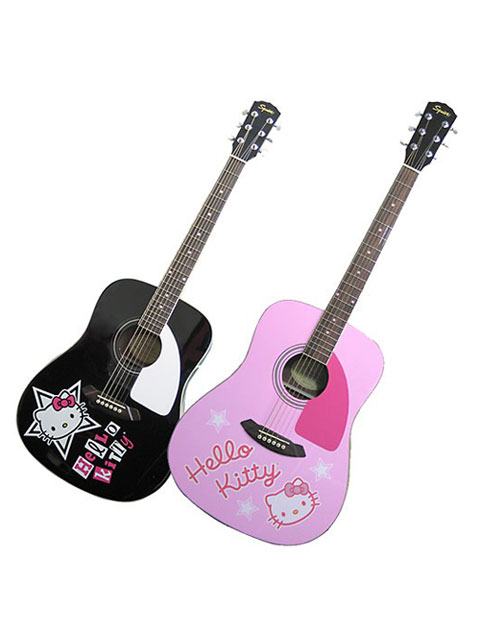guitar: (166, 95, 461, 550), (11, 98, 282, 500)
